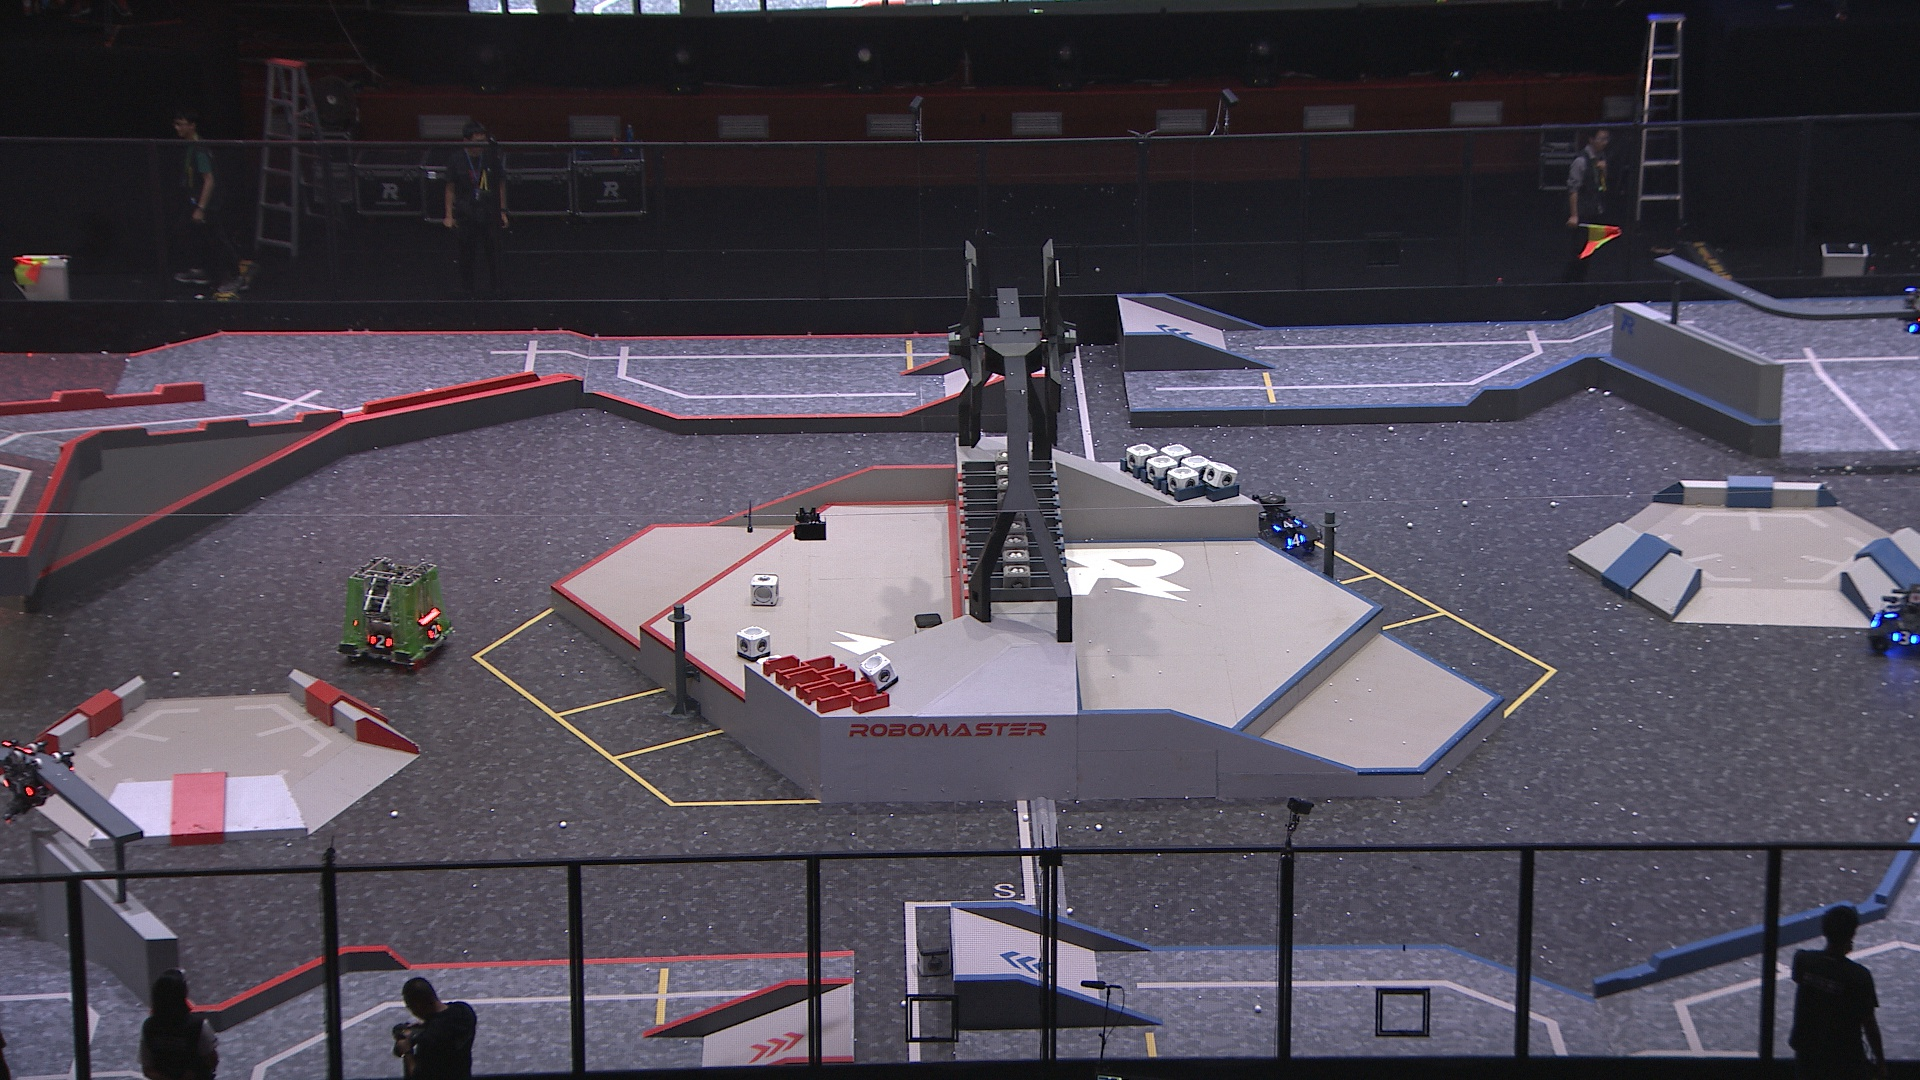armor: (3, 777, 36, 798), (1892, 628, 1920, 650), (1273, 516, 1304, 533), (368, 633, 396, 651), (1286, 531, 1309, 547), (1883, 603, 1902, 622), (427, 622, 444, 642)
car: (338, 556, 456, 674), (1229, 488, 1323, 560), (1863, 580, 1920, 659)
watcher: (1902, 285, 1920, 339)
